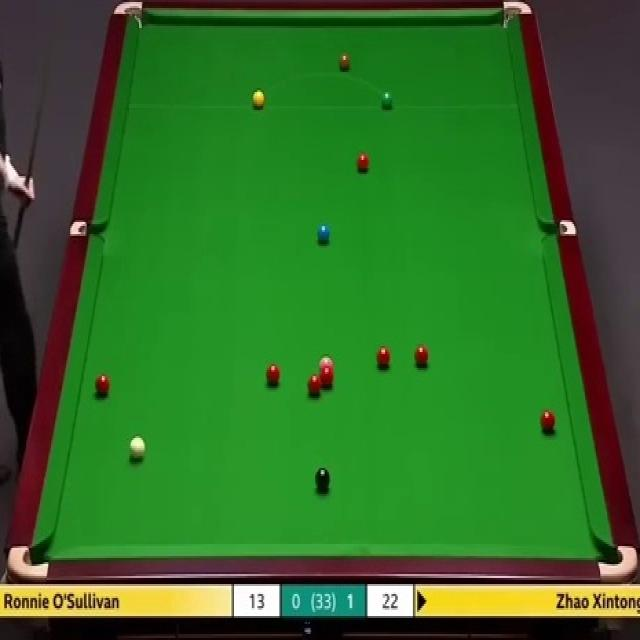pocket: (600, 542, 638, 583), (11, 542, 48, 583), (501, 0, 534, 29), (110, 0, 143, 26), (541, 218, 576, 238), (70, 217, 105, 235)
